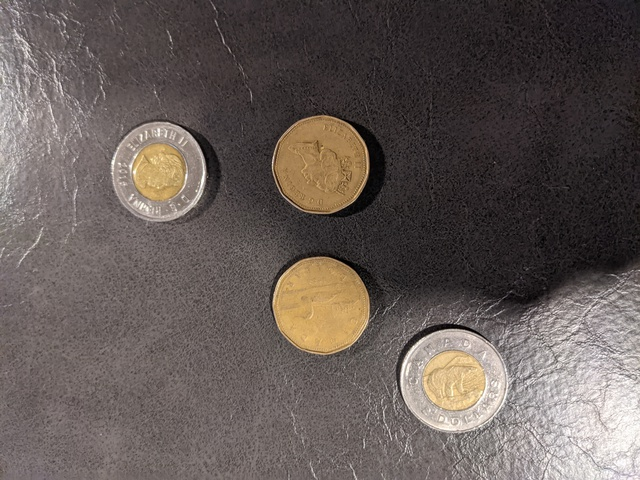loonie: (262, 256, 376, 365), (275, 111, 377, 219)
twonie: (388, 318, 514, 434), (107, 119, 216, 228)
